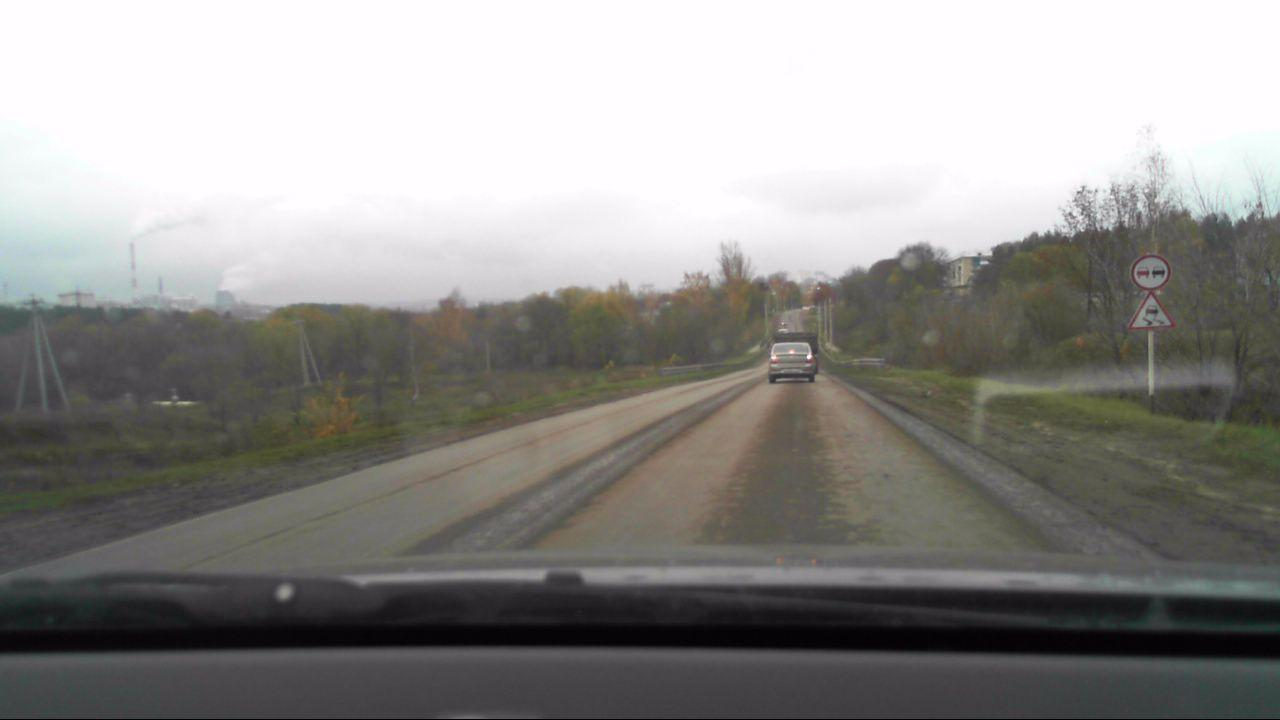1_15: (1130, 294, 1170, 332)
3_20: (1130, 254, 1173, 291)
